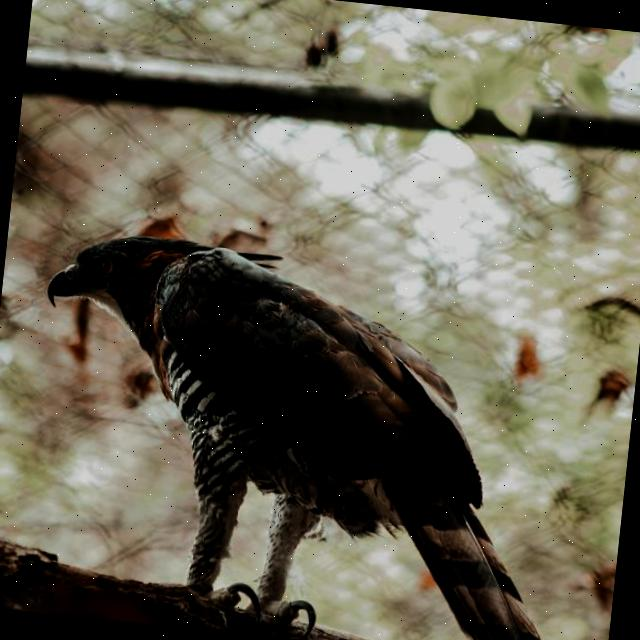Elang Jawa: (0, 177, 630, 640)
